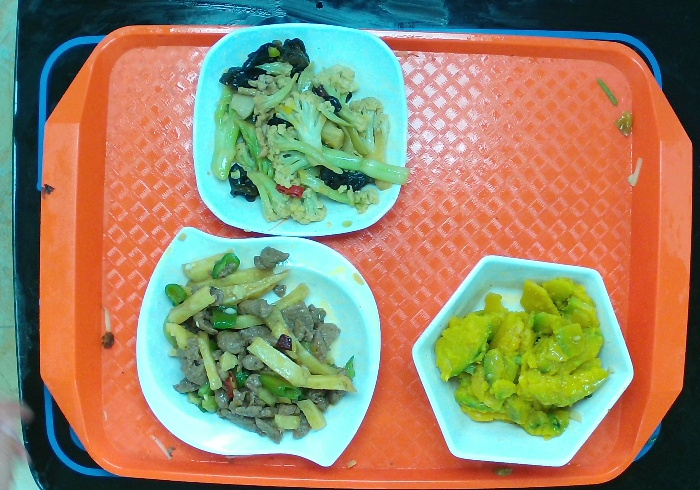RJxy-Liu_Jiao_Wan: (409, 253, 636, 468)
RJxy-Shuang_Jiao_Pan: (134, 225, 383, 468)
RJxy-Si_Fang_Wan: (190, 22, 409, 237)
